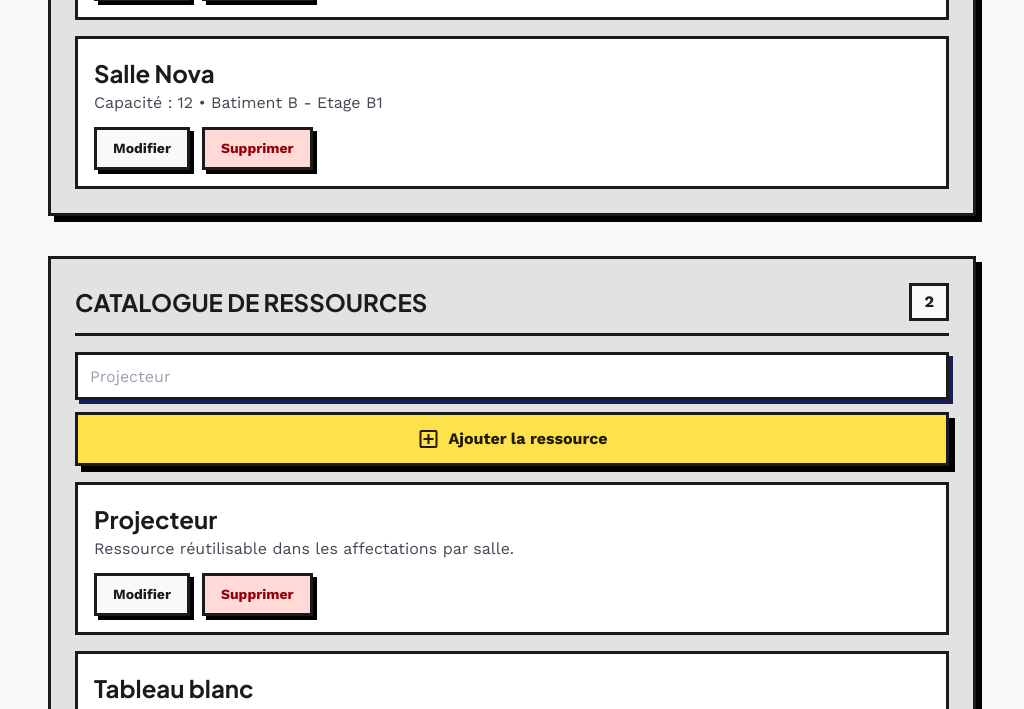
it: Admin › cree une ressource via POST /room-resources
(page scrolled)
Type "Visioconference" into the field with placeholder "Projecteur" at (512, 376), box x1=75 y1=352 x2=949 y2=400
(page scrolled)
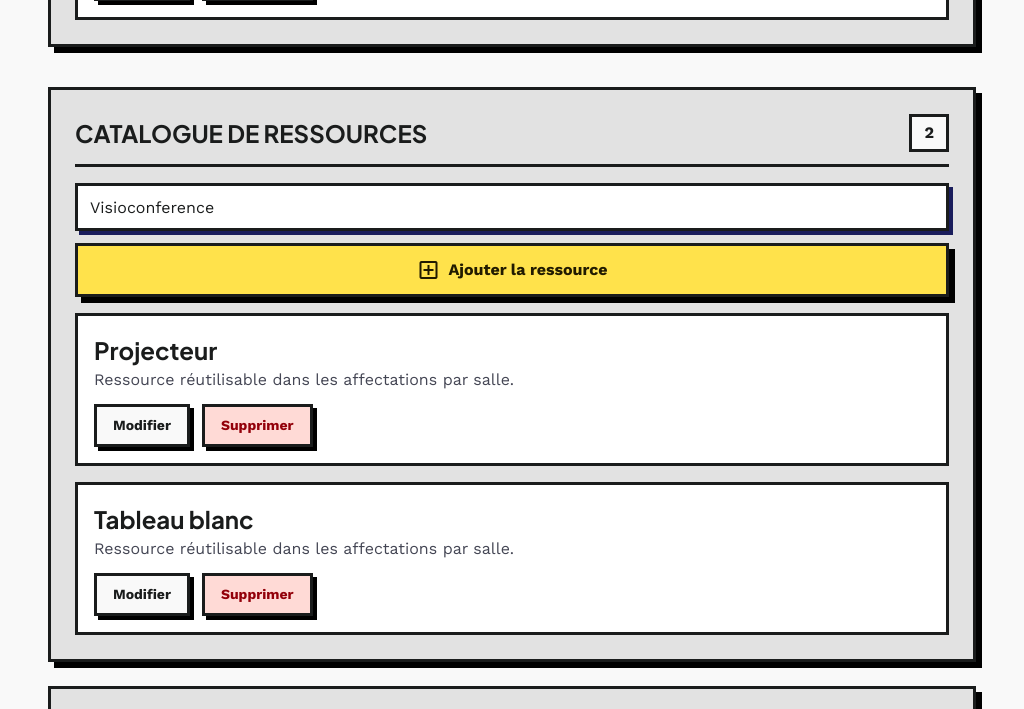
Click the button "Ajouter la ressource" at (512, 270), box x1=75 y1=243 x2=949 y2=297
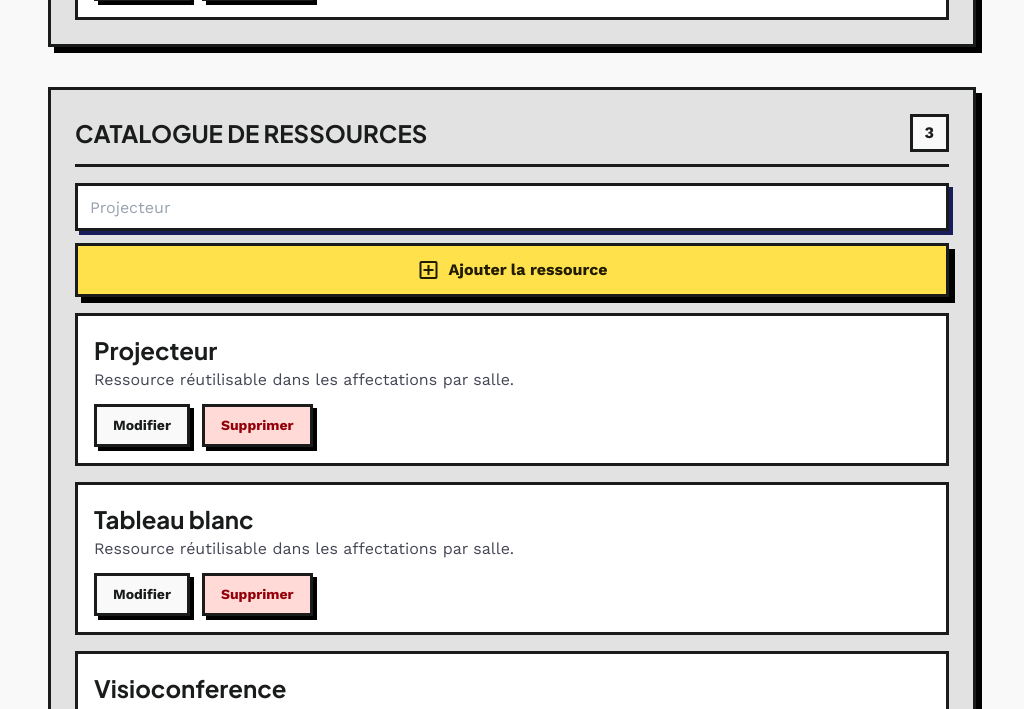
Now the heading "Visioconference" is shown, box x1=94 y1=673 x2=286 y2=703
Now the field with placeholder "Projecteur" is empty, box x1=75 y1=183 x2=949 y2=231
